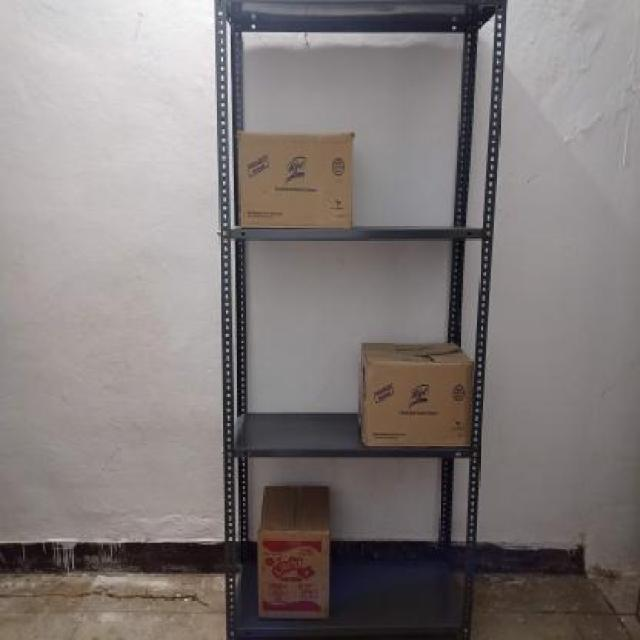box: (235, 132, 352, 228), (365, 361, 473, 448), (258, 530, 329, 619)
